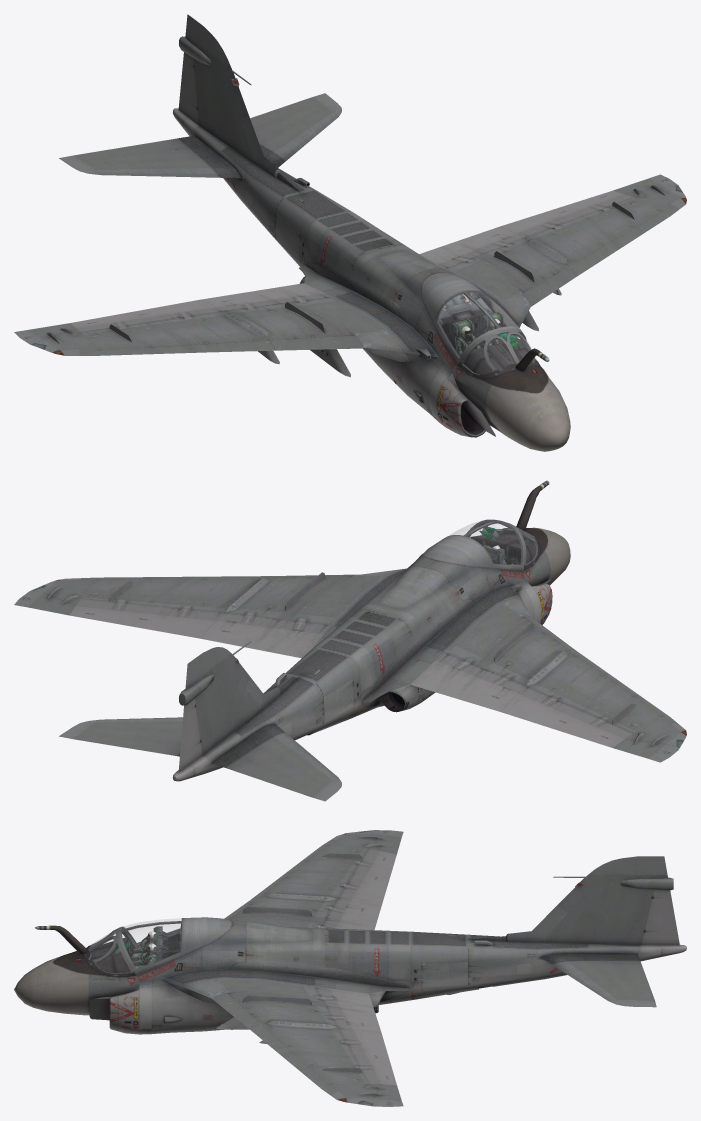
Rendered from A-6 Intruder.FBX.
3 renders of one model, top to bottom at view 1: azimuth 30°, elevation 25°; view 2: azimuth 150°, elevation 25°; view 3: azimuth 270°, elevation 25°, orthographic. The views are drawn at different scales.
Parts seen in each view (by area): view 1: LOD0, ElevatorR01, ElevatorL01, Glass_Canopy01, Canopy01, Glass01, VoletR01, FlapL01, FlapR01, AileronL01, AileronR01, VoletR02 (+6 smaller); view 2: LOD0, ElevatorR01, ElevatorL01, FlapL01, FlapR01, AileronL01, Canopy01, AileronR01, Glass_Canopy01, RudderL01, BrakeL03, BrakeR03 (+5 smaller); view 3: LOD0, ElevatorL01, Canopy01, Glass_Canopy01, RudderL01, FlapL01, AileronR01, AileronL01, BrakeL05, FlapR01, Glass01, VoletL01 (+6 smaller).
Part boxes in pixels (x1,y1,x2,y2): LOD0: (14, 14, 686, 451); ElevatorR01: (59, 136, 237, 178); ElevatorL01: (250, 93, 341, 167); Glass_Canopy01: (437, 291, 518, 357); Canopy01: (421, 272, 521, 364); Glass01: (462, 332, 537, 374); VoletR01: (97, 340, 275, 355); FlapL01: (419, 226, 517, 265); FlapR01: (200, 283, 323, 306); AileronL01: (500, 190, 624, 233); AileronR01: (69, 300, 216, 328); VoletR02: (269, 334, 363, 350); LOD0: (14, 480, 686, 781); ElevatorR01: (212, 725, 341, 801); ElevatorL01: (59, 717, 182, 756); FlapL01: (200, 620, 323, 658); FlapR01: (410, 661, 517, 711); AileronL01: (69, 605, 216, 638); Canopy01: (421, 519, 524, 570); AileronR01: (500, 693, 625, 747); Glass_Canopy01: (449, 520, 522, 564); RudderL01: (178, 698, 202, 772); BrakeL03: (76, 599, 223, 619); BrakeR03: (518, 686, 632, 738); LOD0: (14, 830, 686, 1106); ElevatorL01: (542, 954, 656, 1007); Canopy01: (118, 917, 232, 974); Glass_Canopy01: (121, 918, 181, 969); RudderL01: (640, 890, 679, 945); FlapL01: (329, 988, 381, 1033); AileronR01: (351, 850, 396, 905); AileronL01: (351, 1028, 396, 1085); BrakeL05: (414, 961, 468, 987); FlapR01: (335, 901, 381, 930); Glass01: (89, 931, 130, 973); VoletL01: (249, 1024, 327, 1088).
Bounding box in the file's own units: 16.1 × 4.5 × 16.57.
